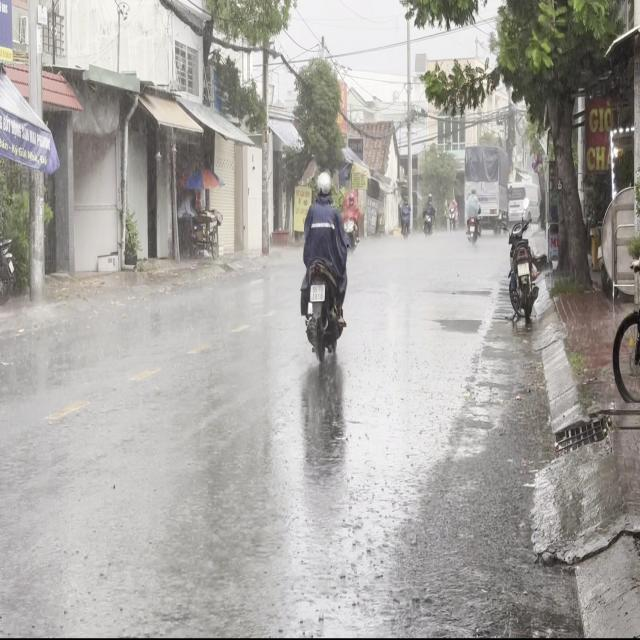helmet: (315, 169, 331, 198)
licenseplate: (296, 168, 349, 366)
nohelmet: (310, 284, 324, 300)
